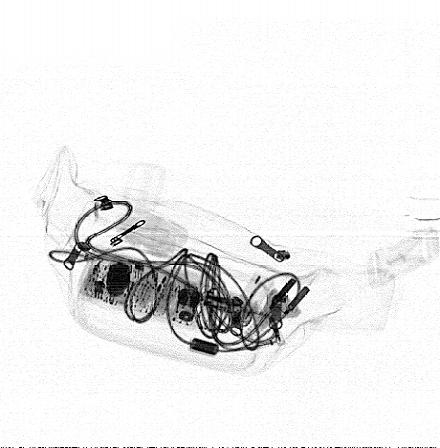Lighter: (178, 289, 249, 316)
